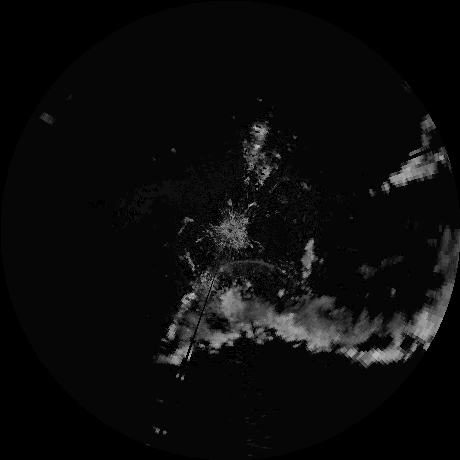frontgust: (219, 259, 279, 274)
